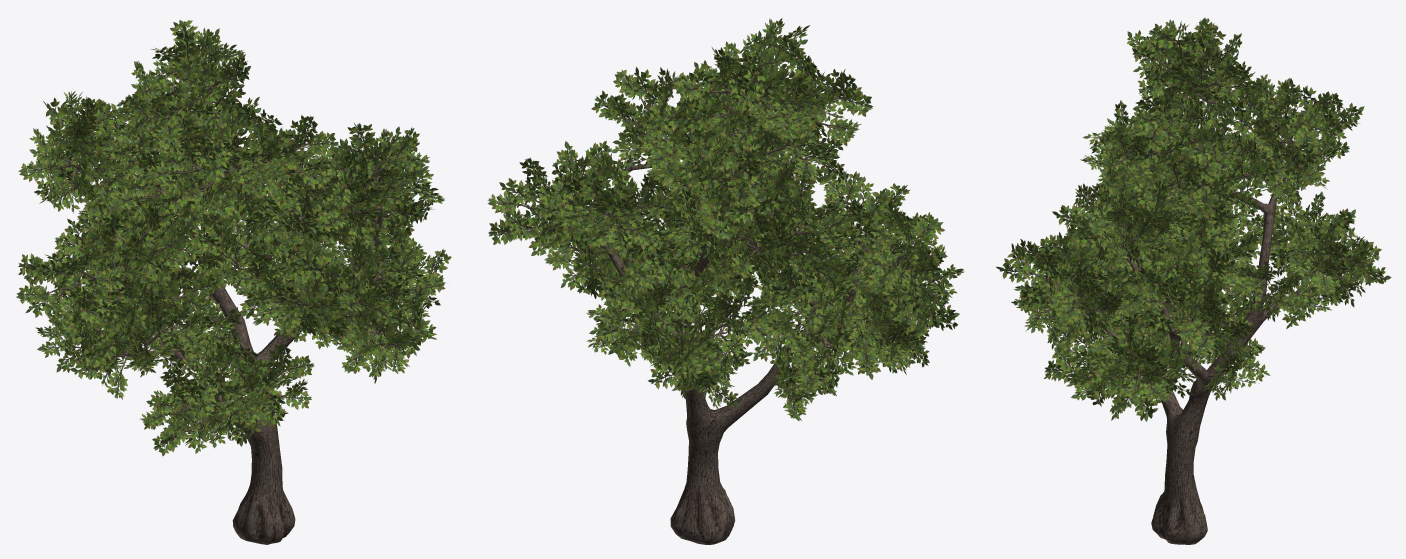
Rendered from tree.gltf.
The picture shows the model from 3 angles, left to right: view 1: azimuth 30°, elevation 25°; view 2: azimuth 150°, elevation 25°; view 3: azimuth 270°, elevation 25°; orthographic projection. The views are drawn at different scales.
Parts seen in each view (by area): view 1: crown merged, trunk_low, br_low; view 2: crown merged, trunk_low, br_low; view 3: crown merged, trunk_low, br_low.
Part boxes in pixels (bbox=[...]): crown merged: bbox=[16, 20, 451, 456]; trunk_low: bbox=[91, 109, 382, 544]; br_low: bbox=[47, 64, 414, 432]; crown merged: bbox=[487, 18, 964, 420]; trunk_low: bbox=[594, 97, 869, 544]; br_low: bbox=[521, 54, 932, 400]; crown merged: bbox=[995, 17, 1391, 421]; trunk_low: bbox=[1068, 89, 1309, 544]; br_low: bbox=[1031, 50, 1349, 383].
Bounding box in the file's own units: 14.35 × 16.05 × 11.72.
2 materials, 2 textured.
